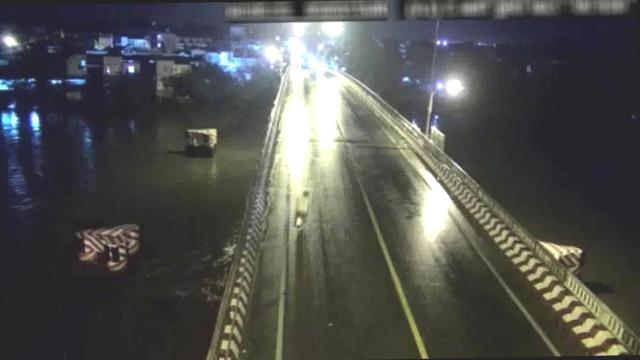Bike: (291, 188, 312, 230)
